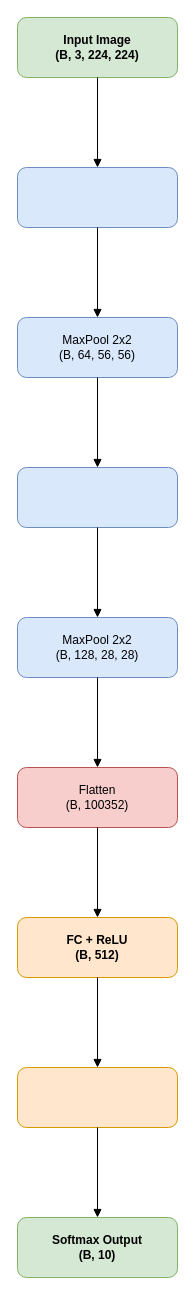
This 195x1295 diagram has some shape labels left out. The centre of each missing label's shape, as x and y in pixels:
"Conv2D + ReLU (B, 128, 56, 56)" belongs at point 97,497.
"Conv2D + ReLU (B, 64, 112, 112)" belongs at point 97,197.
"FC (B, 10)" belongs at point 97,1097.
